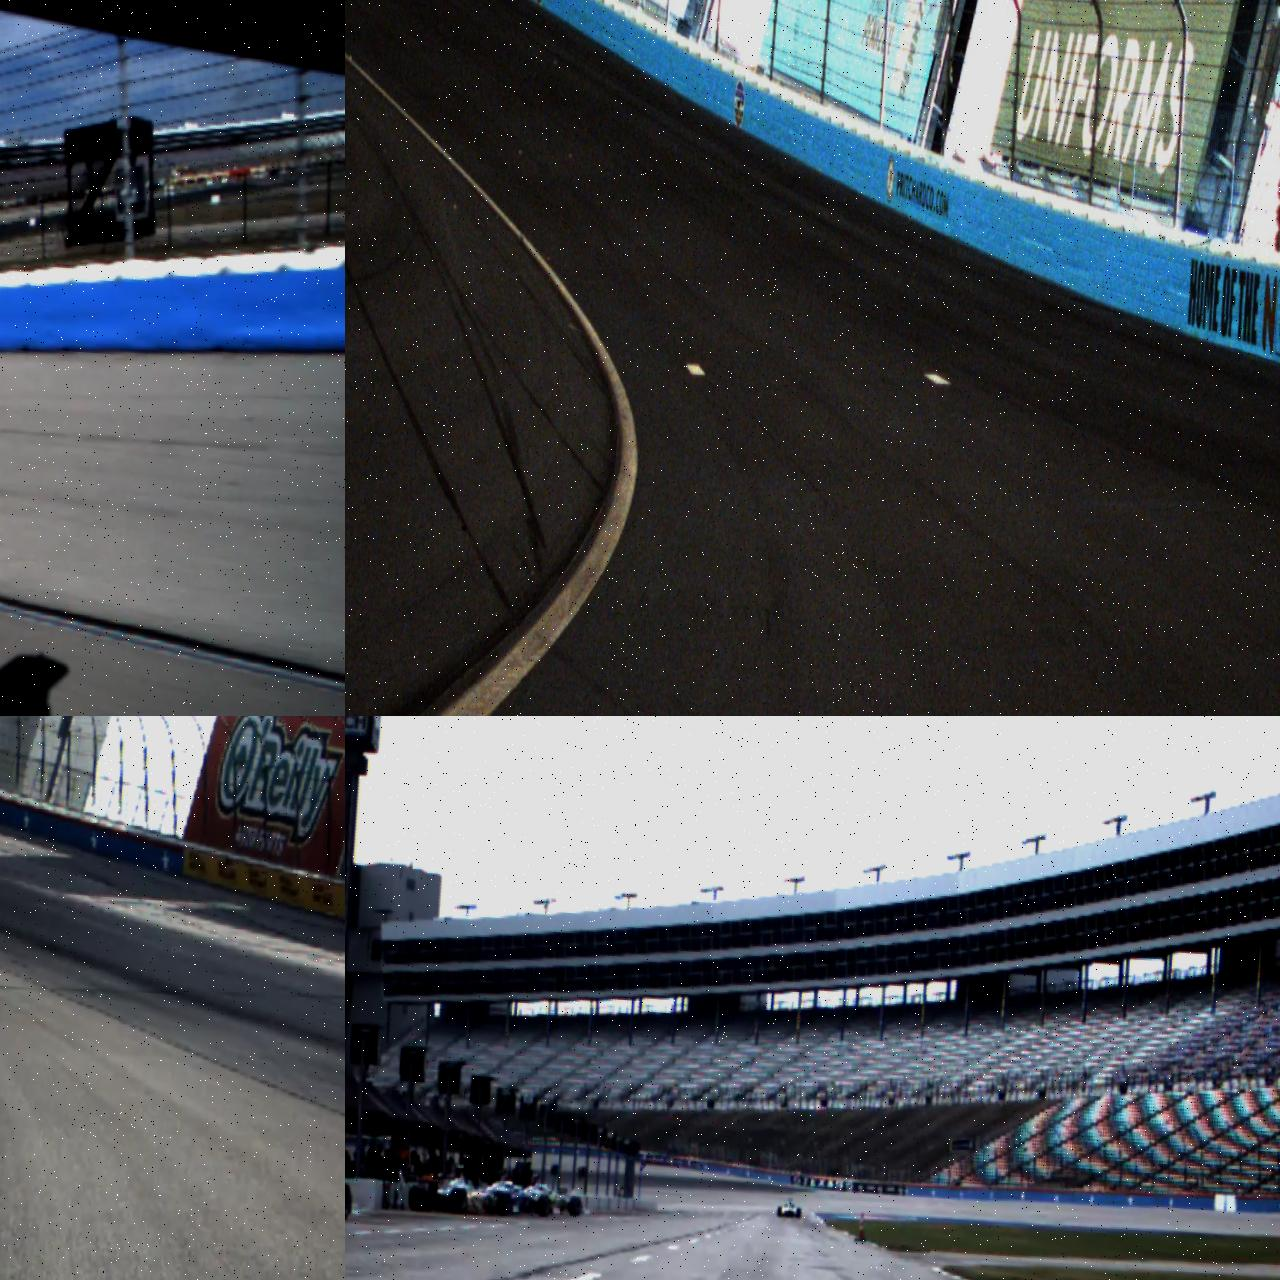AV: (408, 1159, 516, 1219), (776, 1197, 803, 1219)
Wheel: (448, 1187, 468, 1216), (408, 1184, 425, 1212), (497, 1191, 512, 1217), (345, 1182, 353, 1220), (538, 1194, 551, 1218), (568, 1196, 583, 1217), (776, 1206, 782, 1218), (797, 1208, 802, 1219)
